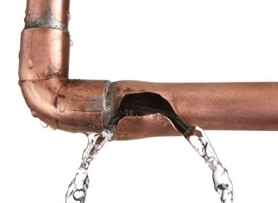rupture: (106, 90, 185, 135)
